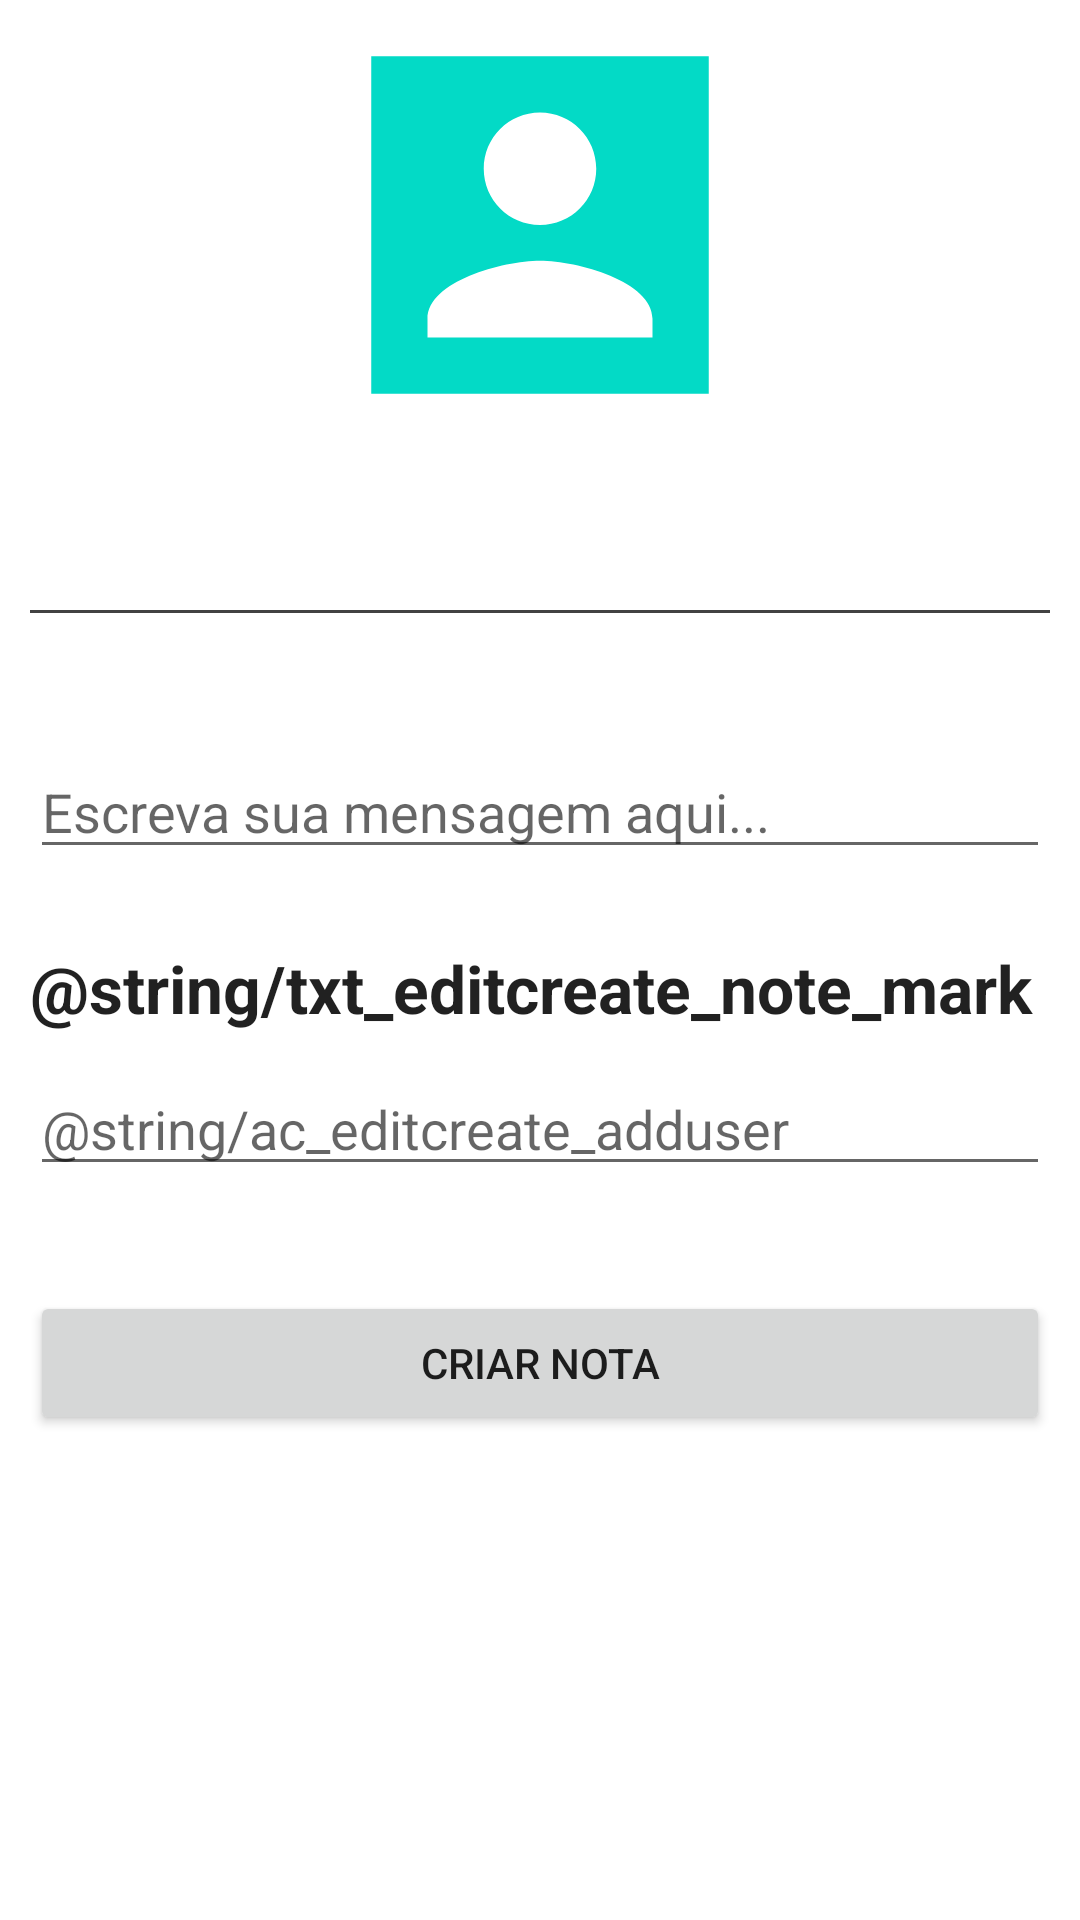

Where icons sit on this 1080w x 1920h app screen, as box=[x1, y1, x2, y2]:
account box: box=[371, 56, 709, 394]
